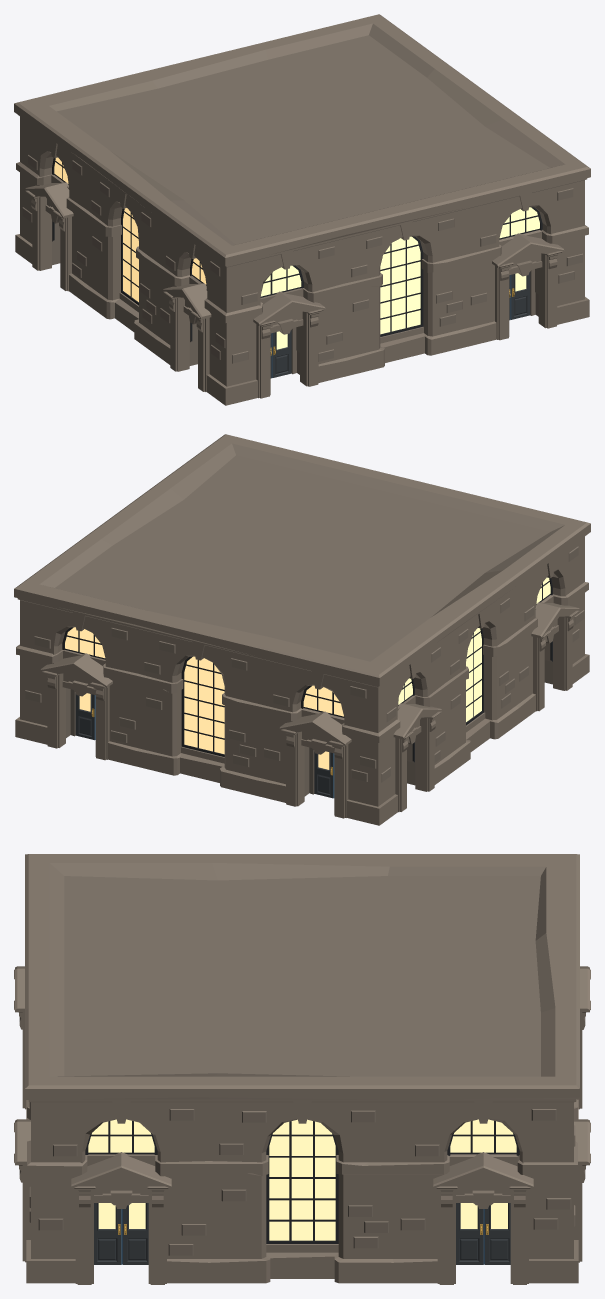
File: SM_Bld_OfficeOld_Large_Base_01.fbx
The picture shows the model from 3 angles, top to bottom: view 1: azimuth 30°, elevation 25°; view 2: azimuth 150°, elevation 25°; view 3: azimuth 270°, elevation 25°; orthographic projection. The views are drawn at different scales.
Parts seen in each view (by area): view 1: SM_Bld_OfficeOld_Large_Base_01; view 2: SM_Bld_OfficeOld_Large_Base_01; view 3: SM_Bld_OfficeOld_Large_Base_01.
Part boxes in pixels (x1=…): SM_Bld_OfficeOld_Large_Base_01: x1=14, y1=14, x2=590, y2=405; SM_Bld_OfficeOld_Large_Base_01: x1=14, y1=434, x2=590, y2=825; SM_Bld_OfficeOld_Large_Base_01: x1=14, y1=854, x2=590, y2=1284.
Size of the model in its own units: 1594 by 600 by 1594.
